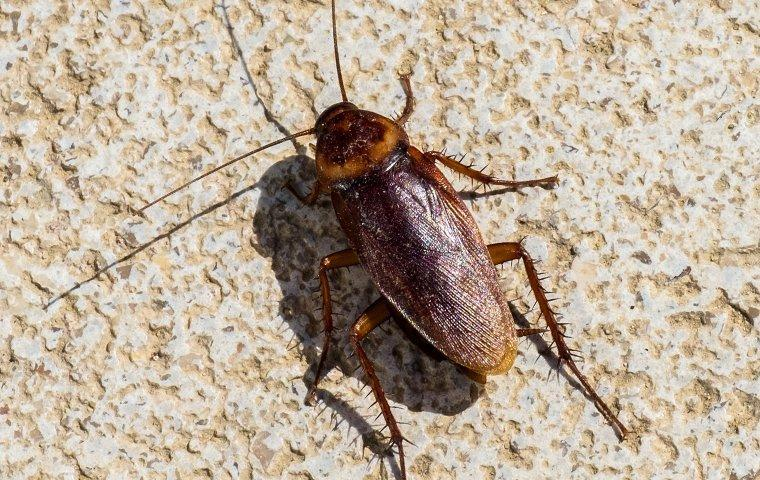cockroach: (302, 100, 524, 380)
